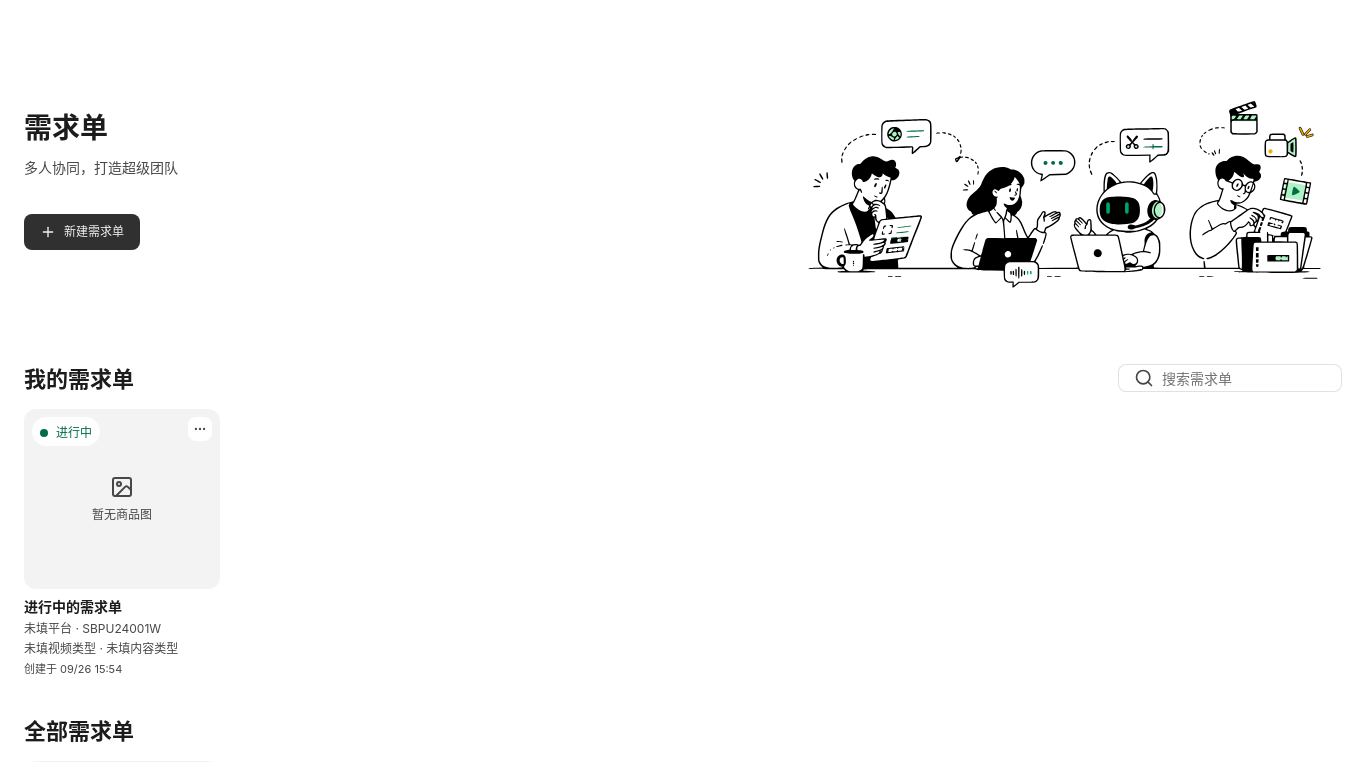
Test: TasksRoute › 我的需求单卡片菜单里重命名需求单
Click the button named "更多操作".
click(200, 429)  # box [188, 417, 212, 441]
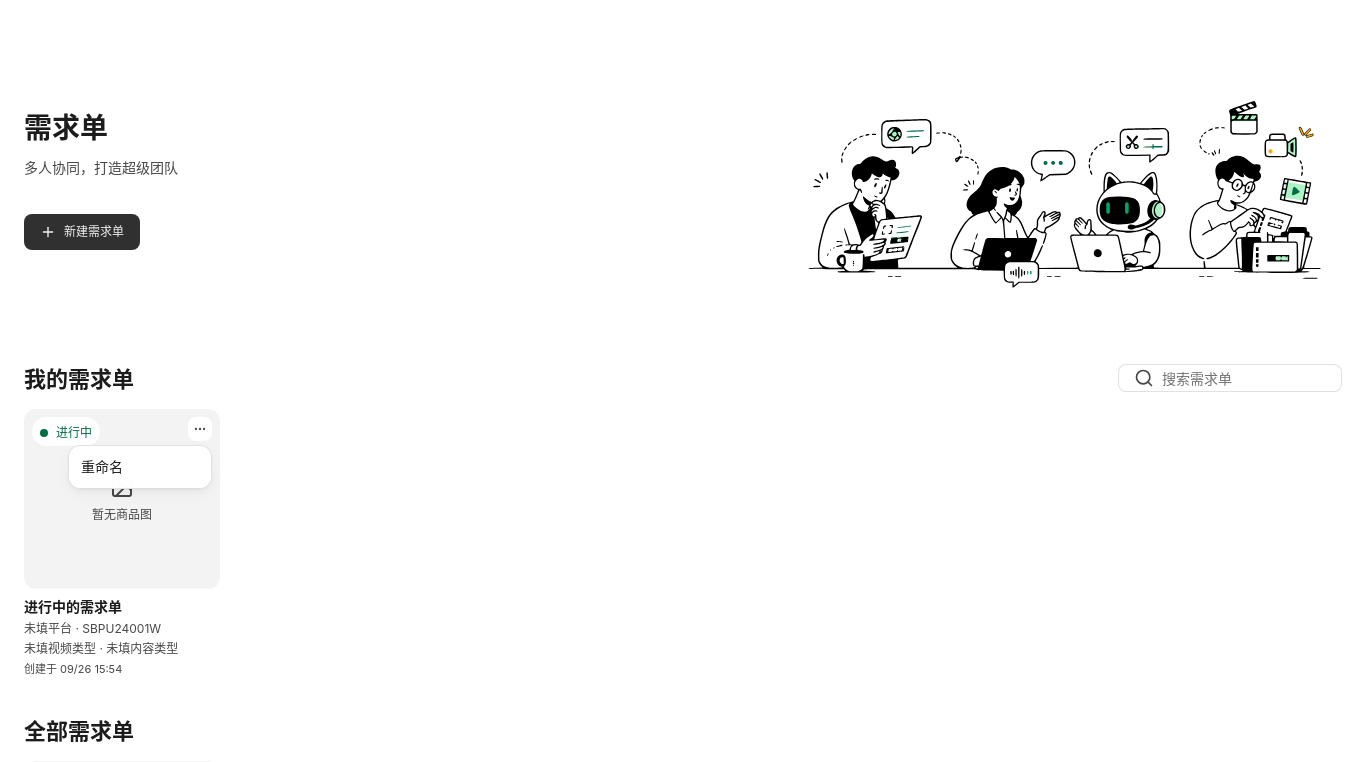
Click the menu item "重命名".
click(102, 466)  # box [81, 458, 123, 475]
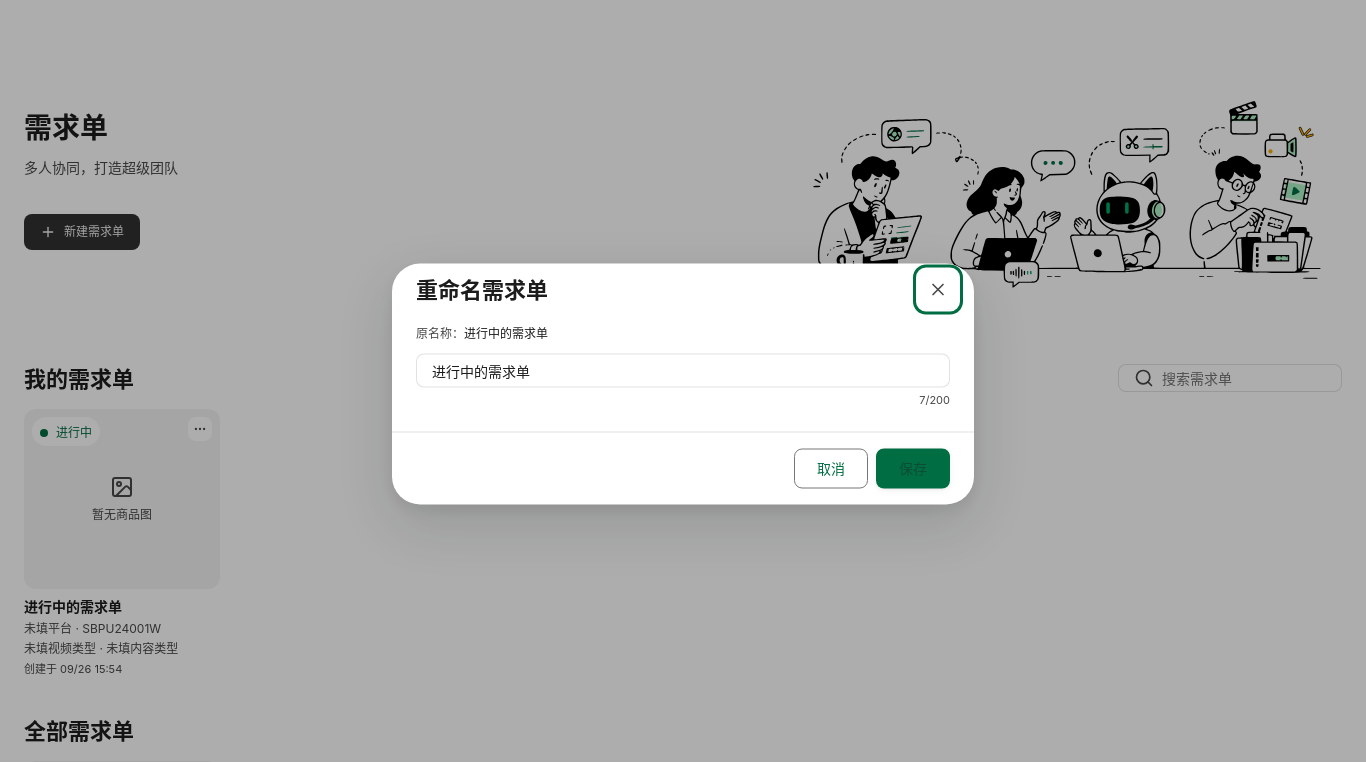
Replace the text in the field named "新的需求单名称" with "改名后的需求单" at (683, 370), box [416, 354, 950, 388]
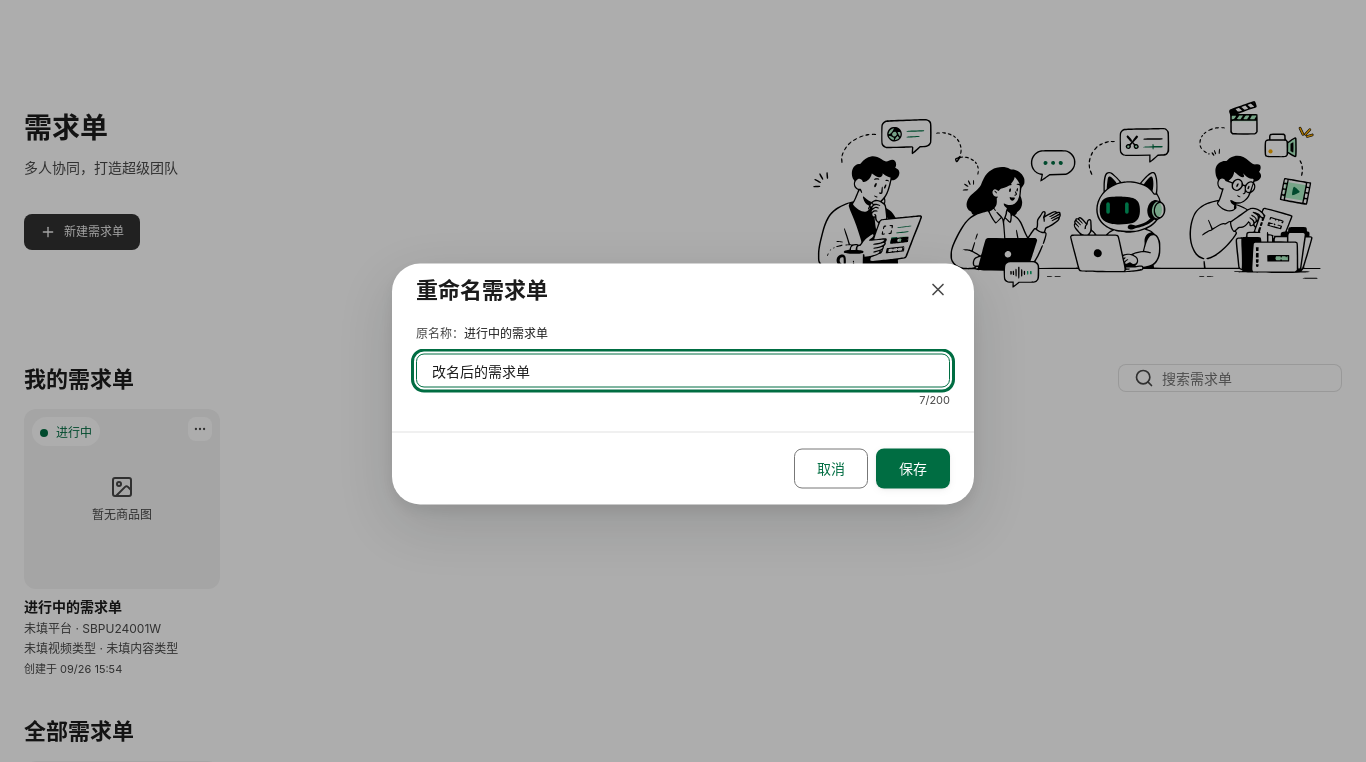
Click the button "保存".
click(913, 468)  # box [876, 448, 950, 488]
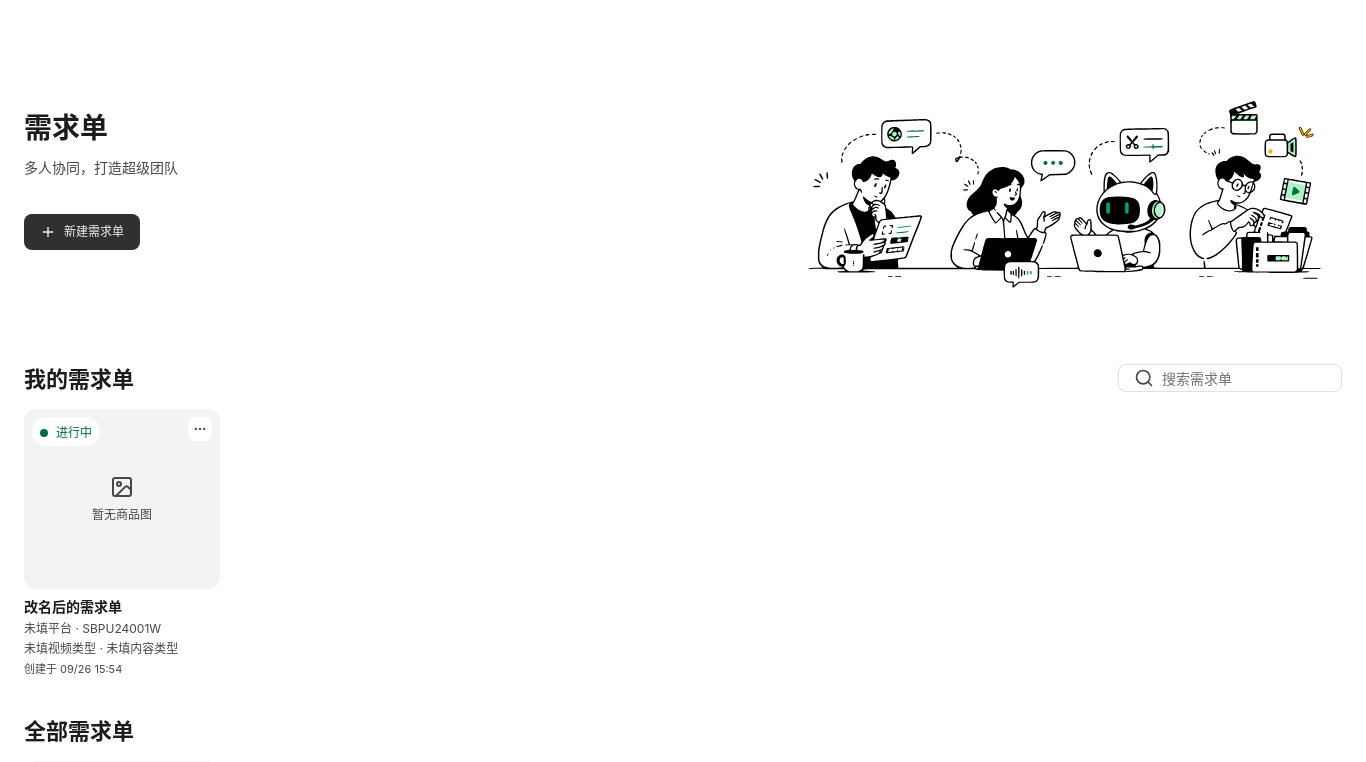
Result: the text "改名后的需求单" is shown at [24, 598, 122, 615]
